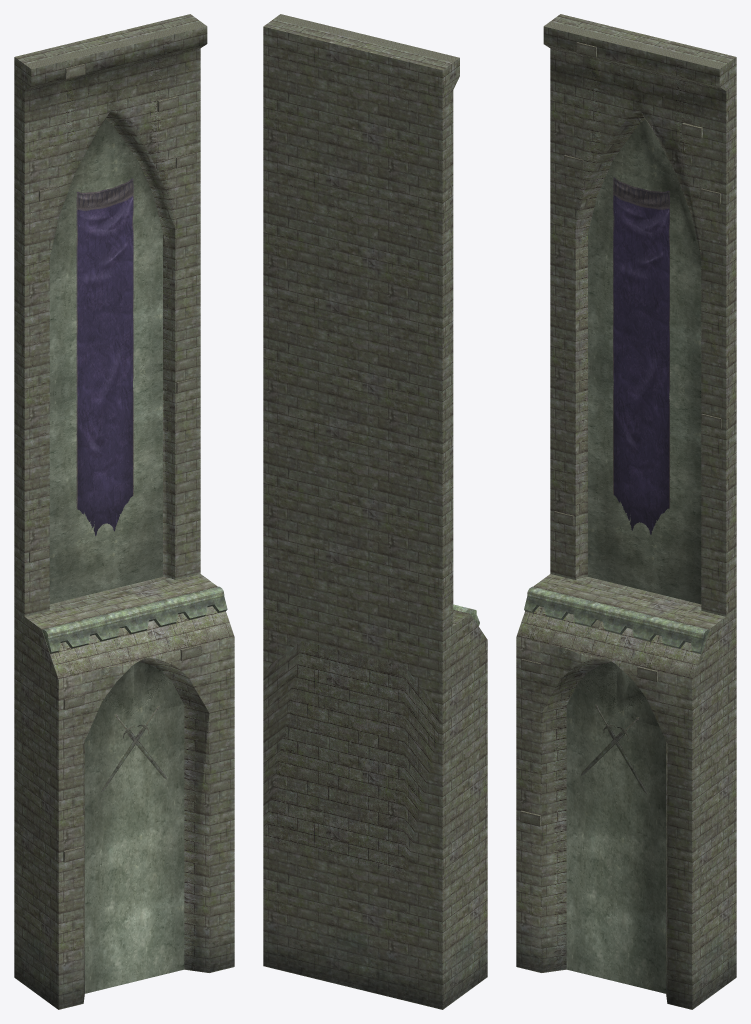
Rendered from ArchedBlock.fbx.
3 views of the same model, side by side, from view 1: azimuth 30°, elevation 25°; view 2: azimuth 150°, elevation 25°; view 3: azimuth 330°, elevation 25° (orthographic). The views are drawn at different scales.
Visible parts, largest first — view 1: Mesh Object; view 2: Mesh Object; view 3: Mesh Object.
Boxes of the visible parts, x1,y1,x2,y2 form: Mesh Object: (14, 14, 234, 1009); Mesh Object: (263, 14, 487, 1009); Mesh Object: (516, 14, 736, 1009).
Bounding box in the file's own units: 3.01 × 15.03 × 1.33.
